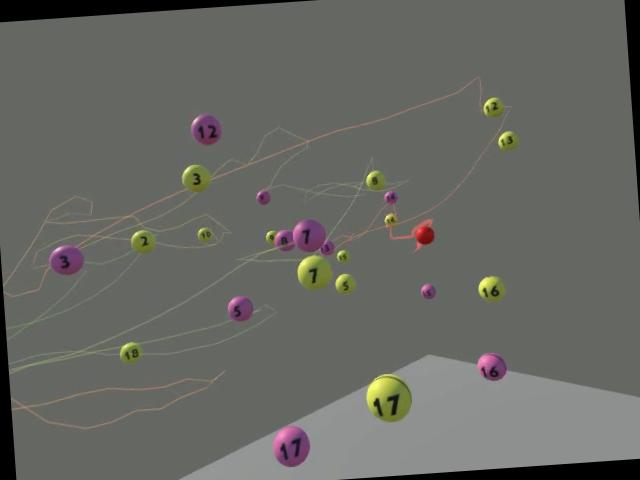ball_02_yellow: (128, 228, 156, 253)
ball_03_pink: (48, 244, 84, 276)
ball_03_yellow: (180, 162, 210, 192)
ball_05_pink: (226, 295, 253, 322)
ball_05_yellow: (334, 272, 356, 294)
ball_07_pink: (290, 217, 326, 252)
ball_07_yellow: (295, 254, 332, 290)
ball_08_pink: (272, 228, 294, 251)
ball_08_yellow: (364, 170, 386, 190)
ball_09_pink: (254, 189, 270, 205)
ball_10_yellow: (196, 226, 212, 243)
ball_12_pink: (189, 112, 222, 146)
ball_12_yellow: (482, 96, 502, 117)
ball_13_pink: (318, 238, 334, 255)
ball_13_yellow: (496, 130, 518, 150)
ball_14_pink: (382, 188, 398, 204)
ball_14_yellow: (382, 212, 397, 226)
ball_15_pink: (420, 282, 436, 299)
ball_15_yellow: (334, 248, 348, 262)
ball_16_pink: (476, 350, 506, 382)
ball_16_yellow: (476, 274, 506, 302)
ball_17_pink: (271, 424, 311, 466)
ball_17_yellow: (364, 371, 412, 422)
ball_18_yellow: (118, 342, 143, 364)
ball_unknown: (264, 229, 276, 245)
user_cursor: (414, 224, 434, 244)
